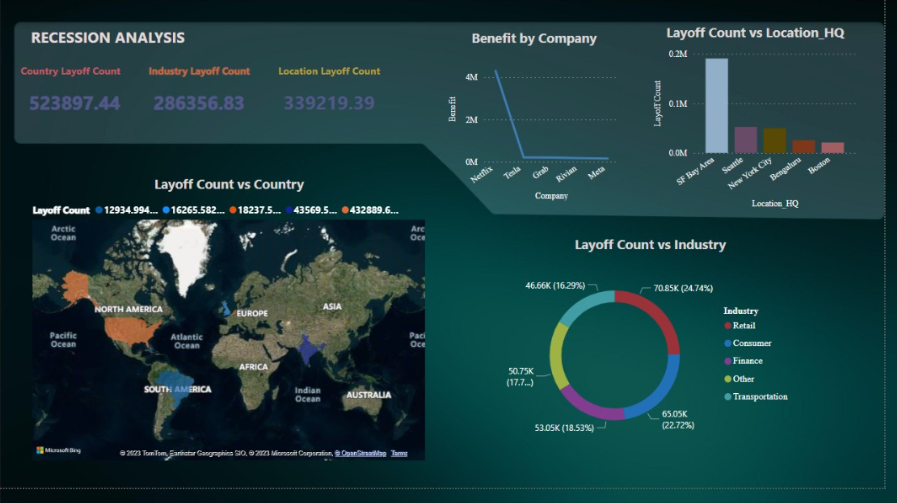

The dashboard page shown, as its layout file describes it:
{"tool":"powerbi","page":{"name":"Home","canvas":[1280,720],"ordinal":0},"visuals":[{"type":"textbox","box":[45,57.5,258.8,41.2],"z":0},{"type":"textbox","box":[45,111.2,163.8,97.5],"z":1000},{"type":"textbox","box":[220,111.2,168.8,97.5],"z":2000},{"type":"textbox","box":[400,111.2,178.8,108.8],"z":3000},{"type":"lineChart","title":"Benefit by Company","fields":{"Category":["Average_benefit_by_company_top_five.Company"],"Y":["Sum(Average_benefit_by_company_top_five.Benefit)"]},"box":[655,66.2,252.5,248.8],"z":4000},{"type":"columnChart","title":"Layoff Count vs Location_HQ","fields":{"Category":["Headquarter_Location_laid_off_count_top_10.Location_HQ"],"Y":["Sum(Headquarter_Location_laid_off_count_top_10.Laid_Off_Count)"]},"box":[947.5,57.5,297.5,268.8],"z":5000},{"type":"donutChart","title":"Layoff Count vs Industry","fields":{"Category":["Industry_laid_off_count_top_10.Industry"],"Y":["Sum(Industry_laid_off_count_top_10.Laid_Off_Count)"]},"box":[736.2,360,421.2,312.5],"z":6000},{"type":"filledMap","title":"Layoff Count vs Country","fields":{"Category":["Country_wise_laid_off_count_top_five.Country"],"Series":["Country_wise_laid_off_count_top_five.Laid_Off_Count"]},"box":[62.5,273.8,568.8,412.5],"z":7000},{"type":"actionButton","box":[319,407,15,16],"z":8000},{"type":"actionButton","box":[73,350,54,50],"z":9000},{"type":"actionButton","box":[437.5,498.8,52.5,56.2],"z":10000},{"type":"actionButton","box":[347.5,461.2,12.5,18.8],"z":11000},{"type":"actionButton","box":[333.8,443.8,20,37.5],"z":12000},{"type":"actionButton","box":[247.5,543.8,56.2,62.5],"z":13000},{"type":"actionButton","box":[158.8,476.2,100,40],"z":14000},{"type":"actionButton","box":[100,403.8,48.8,57.5],"z":15000}]}

Visuals, with their boxes in screenshot pixels (x1, y1, x2, y2), scaled from the page's 1280x720 canvas onto the 897x503 screenshot:
textbox: BBox(32, 40, 213, 69)
textbox: BBox(32, 78, 146, 146)
textbox: BBox(154, 78, 272, 146)
textbox: BBox(280, 78, 406, 154)
"Benefit by Company" lineChart: BBox(459, 46, 636, 220)
"Layoff Count vs Location_HQ" columnChart: BBox(664, 40, 872, 228)
"Layoff Count vs Industry" donutChart: BBox(516, 252, 811, 470)
"Layoff Count vs Country" filledMap: BBox(44, 191, 442, 479)
actionButton: BBox(224, 284, 234, 296)
actionButton: BBox(51, 245, 89, 279)
actionButton: BBox(307, 348, 343, 388)
actionButton: BBox(244, 322, 252, 335)
actionButton: BBox(234, 310, 248, 336)
actionButton: BBox(173, 380, 213, 424)
actionButton: BBox(111, 333, 181, 361)
actionButton: BBox(70, 282, 104, 322)
